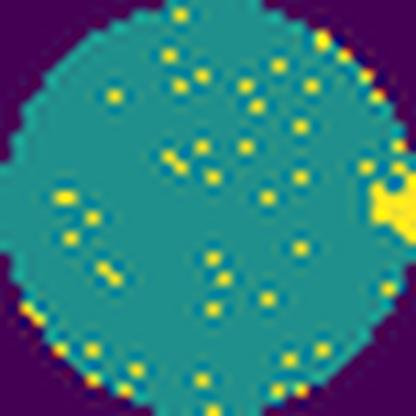Edge-Loc: (374, 168, 416, 256)
